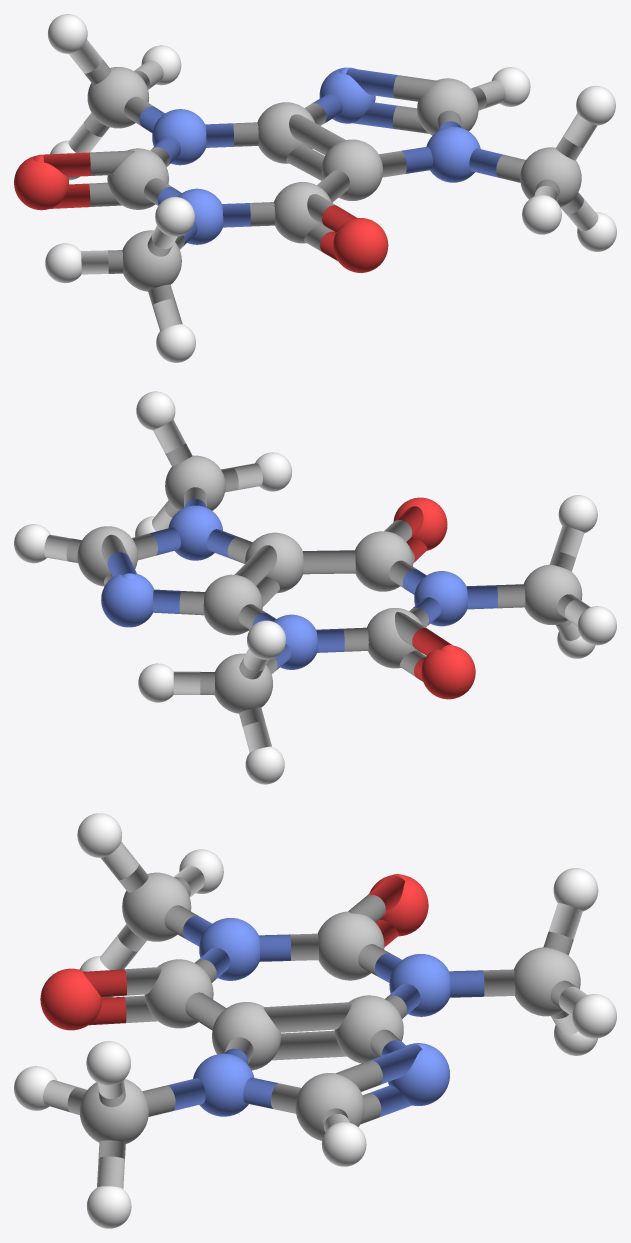
Rendered from caffeine.fbx.
3 views of the same model, one above another, from view 1: azimuth 30°, elevation 25°; view 2: azimuth 150°, elevation 25°; view 3: azimuth 270°, elevation 25° (orthographic). The views are drawn at different scales.
Parts seen in each view (by area): view 1: C7_Atom, C12_Atom, C14_Atom, O1_Atom, C10_Atom, C13_Atom, C11_Atom, N4_Atom, O2_Atom, C9_Atom, C8_Atom, N3_Atom (+40 smaller); view 2: C8_Atom, C9_Atom, C14_Atom, C12_Atom, N6_Atom, C13_Atom, O2_Atom, N5_Atom, N4_Atom, C10_Atom, C7_Atom, C11_Atom (+29 smaller); view 3: C10_Atom, C12_Atom, C14_Atom, C9_Atom, C13_Atom, C11_Atom, O1_Atom, C7_Atom, C8_Atom, N4_Atom, N3_Atom, N5_Atom (+37 smaller).
Boxes of the visible parts, bbox=[...] form: C7_Atom: bbox=[321, 139, 382, 200]; C12_Atom: bbox=[87, 67, 149, 128]; C14_Atom: bbox=[122, 230, 181, 291]; O1_Atom: bbox=[333, 218, 388, 272]; C10_Atom: bbox=[107, 148, 168, 209]; C13_Atom: bbox=[520, 147, 581, 207]; C11_Atom: bbox=[417, 78, 478, 135]; N4_Atom: bbox=[426, 126, 480, 182]; O2_Atom: bbox=[14, 155, 68, 210]; C9_Atom: bbox=[274, 182, 331, 243]; C8_Atom: bbox=[257, 102, 314, 163]; N3_Atom: bbox=[152, 109, 206, 165]; C8_Atom: bbox=[203, 574, 262, 635]; C9_Atom: bbox=[355, 531, 413, 591]; C14_Atom: bbox=[524, 564, 582, 624]; C12_Atom: bbox=[214, 653, 272, 713]; N6_Atom: bbox=[101, 573, 154, 627]; C13_Atom: bbox=[165, 455, 225, 510]; O2_Atom: bbox=[421, 646, 475, 699]; N5_Atom: bbox=[414, 571, 467, 626]; N4_Atom: bbox=[168, 505, 222, 560]; C10_Atom: bbox=[367, 608, 422, 668]; C7_Atom: bbox=[244, 532, 303, 593]; C11_Atom: bbox=[77, 526, 137, 586]; C10_Atom: bbox=[318, 911, 384, 980]; C12_Atom: bbox=[514, 947, 580, 1016]; C14_Atom: bbox=[122, 872, 191, 941]; C9_Atom: bbox=[144, 959, 213, 1028]; C13_Atom: bbox=[79, 1079, 148, 1143]; C11_Atom: bbox=[295, 1073, 364, 1140]; O1_Atom: bbox=[40, 968, 102, 1030]; C7_Atom: bbox=[212, 1002, 280, 1070]; C8_Atom: bbox=[334, 995, 403, 1063]; N4_Atom: bbox=[193, 1053, 254, 1116]; N3_Atom: bbox=[389, 954, 450, 1016]; N5_Atom: bbox=[199, 918, 259, 980].
Bounding box in the file's own units: 796 × 234 × 681.
